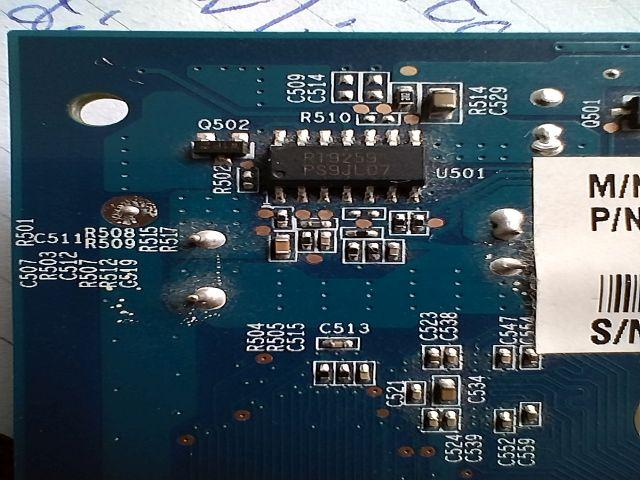resistor: (338, 222, 389, 247), (332, 354, 355, 394), (339, 240, 366, 272), (312, 357, 334, 392)
